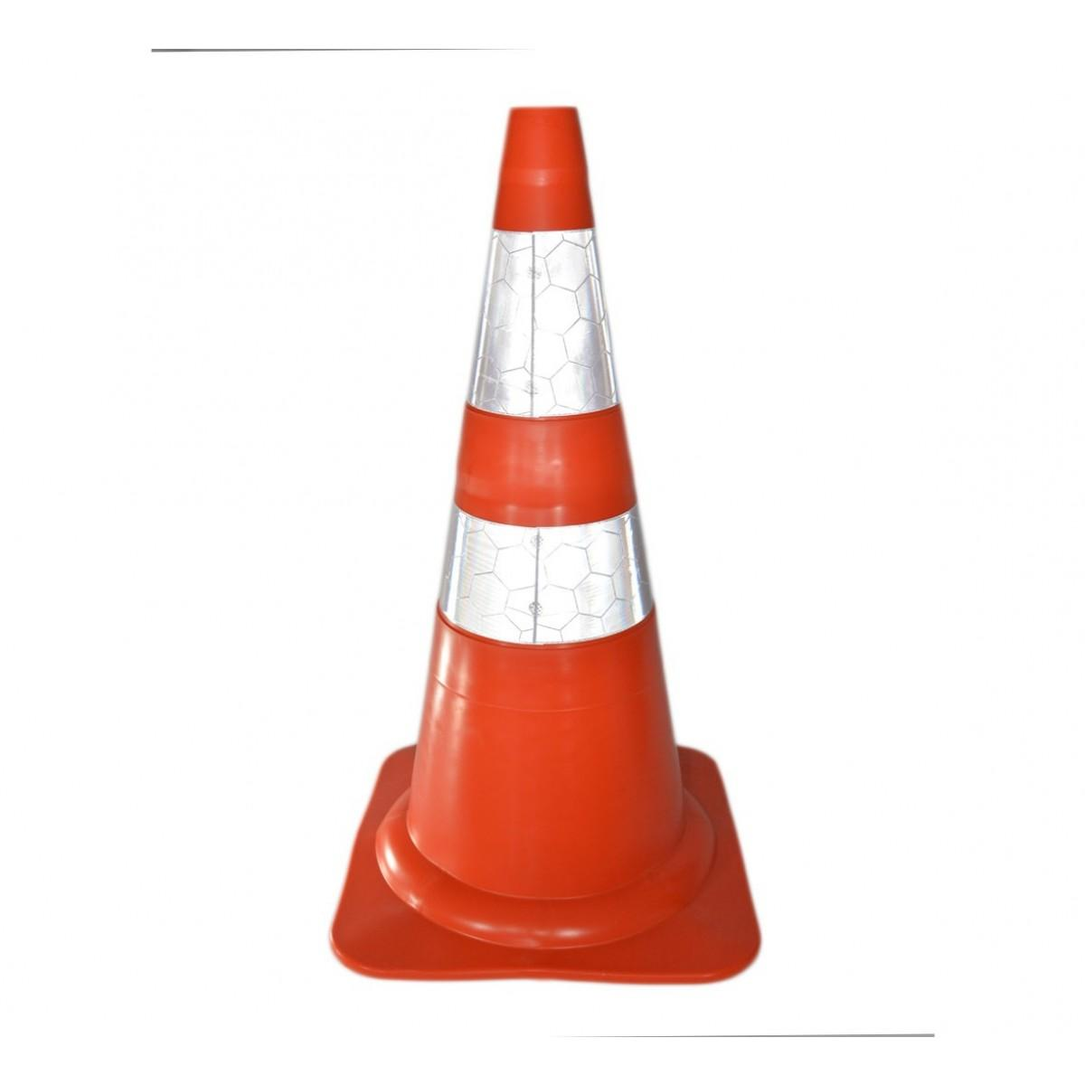traffic_cone: (329, 103, 762, 985)
